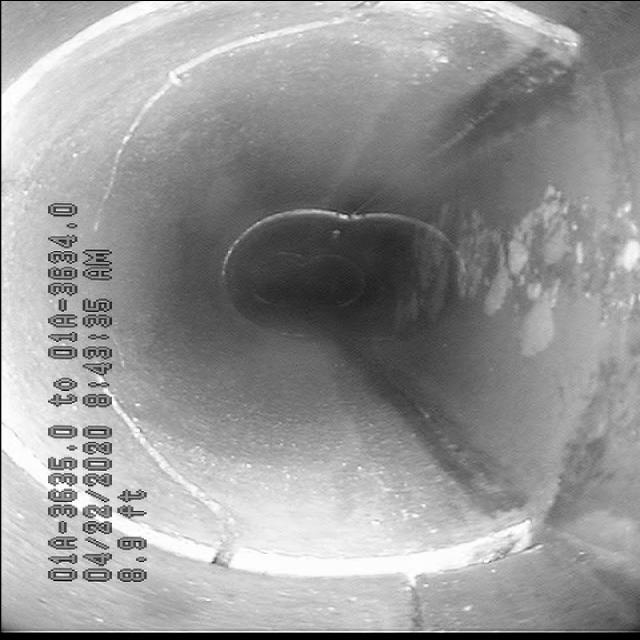Crack: (82, 18, 358, 136), (157, 431, 273, 574)
